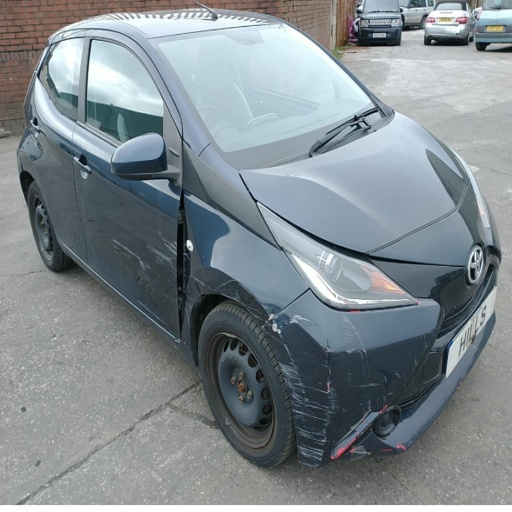dent: (217, 276, 291, 336), (180, 206, 209, 321)
rust: (207, 331, 274, 449), (40, 218, 47, 235), (239, 382, 245, 392)
scratch: (190, 275, 263, 314), (279, 362, 332, 414), (342, 314, 370, 383), (333, 400, 372, 446), (113, 239, 149, 271), (136, 300, 169, 327), (147, 244, 177, 271), (289, 314, 324, 331), (292, 409, 329, 422), (297, 444, 324, 461), (159, 235, 177, 256), (298, 430, 329, 442), (239, 283, 258, 302), (350, 445, 372, 461), (295, 426, 327, 436), (262, 329, 284, 342), (314, 342, 333, 357), (243, 307, 263, 320), (215, 280, 238, 289), (284, 344, 295, 362), (301, 351, 320, 361), (298, 460, 320, 468), (327, 388, 339, 402), (113, 245, 128, 256), (351, 383, 380, 388), (294, 415, 307, 426), (362, 364, 369, 383), (331, 405, 339, 417), (183, 253, 192, 263), (347, 348, 356, 356), (324, 413, 332, 421), (323, 421, 331, 428), (171, 269, 177, 277), (359, 351, 363, 362), (424, 334, 427, 348), (158, 230, 164, 237), (145, 264, 151, 271), (143, 262, 151, 267), (321, 364, 330, 368), (265, 321, 271, 327), (387, 391, 394, 396), (314, 442, 324, 445), (113, 249, 118, 254), (395, 373, 401, 377), (383, 396, 385, 407), (284, 321, 288, 326), (344, 334, 354, 336), (377, 399, 379, 409), (396, 371, 400, 376), (415, 355, 417, 365), (329, 366, 331, 375), (349, 332, 358, 334), (331, 403, 339, 405), (385, 376, 387, 382), (360, 403, 363, 407), (280, 326, 282, 329), (347, 337, 353, 338), (345, 341, 350, 342), (404, 373, 405, 378)
